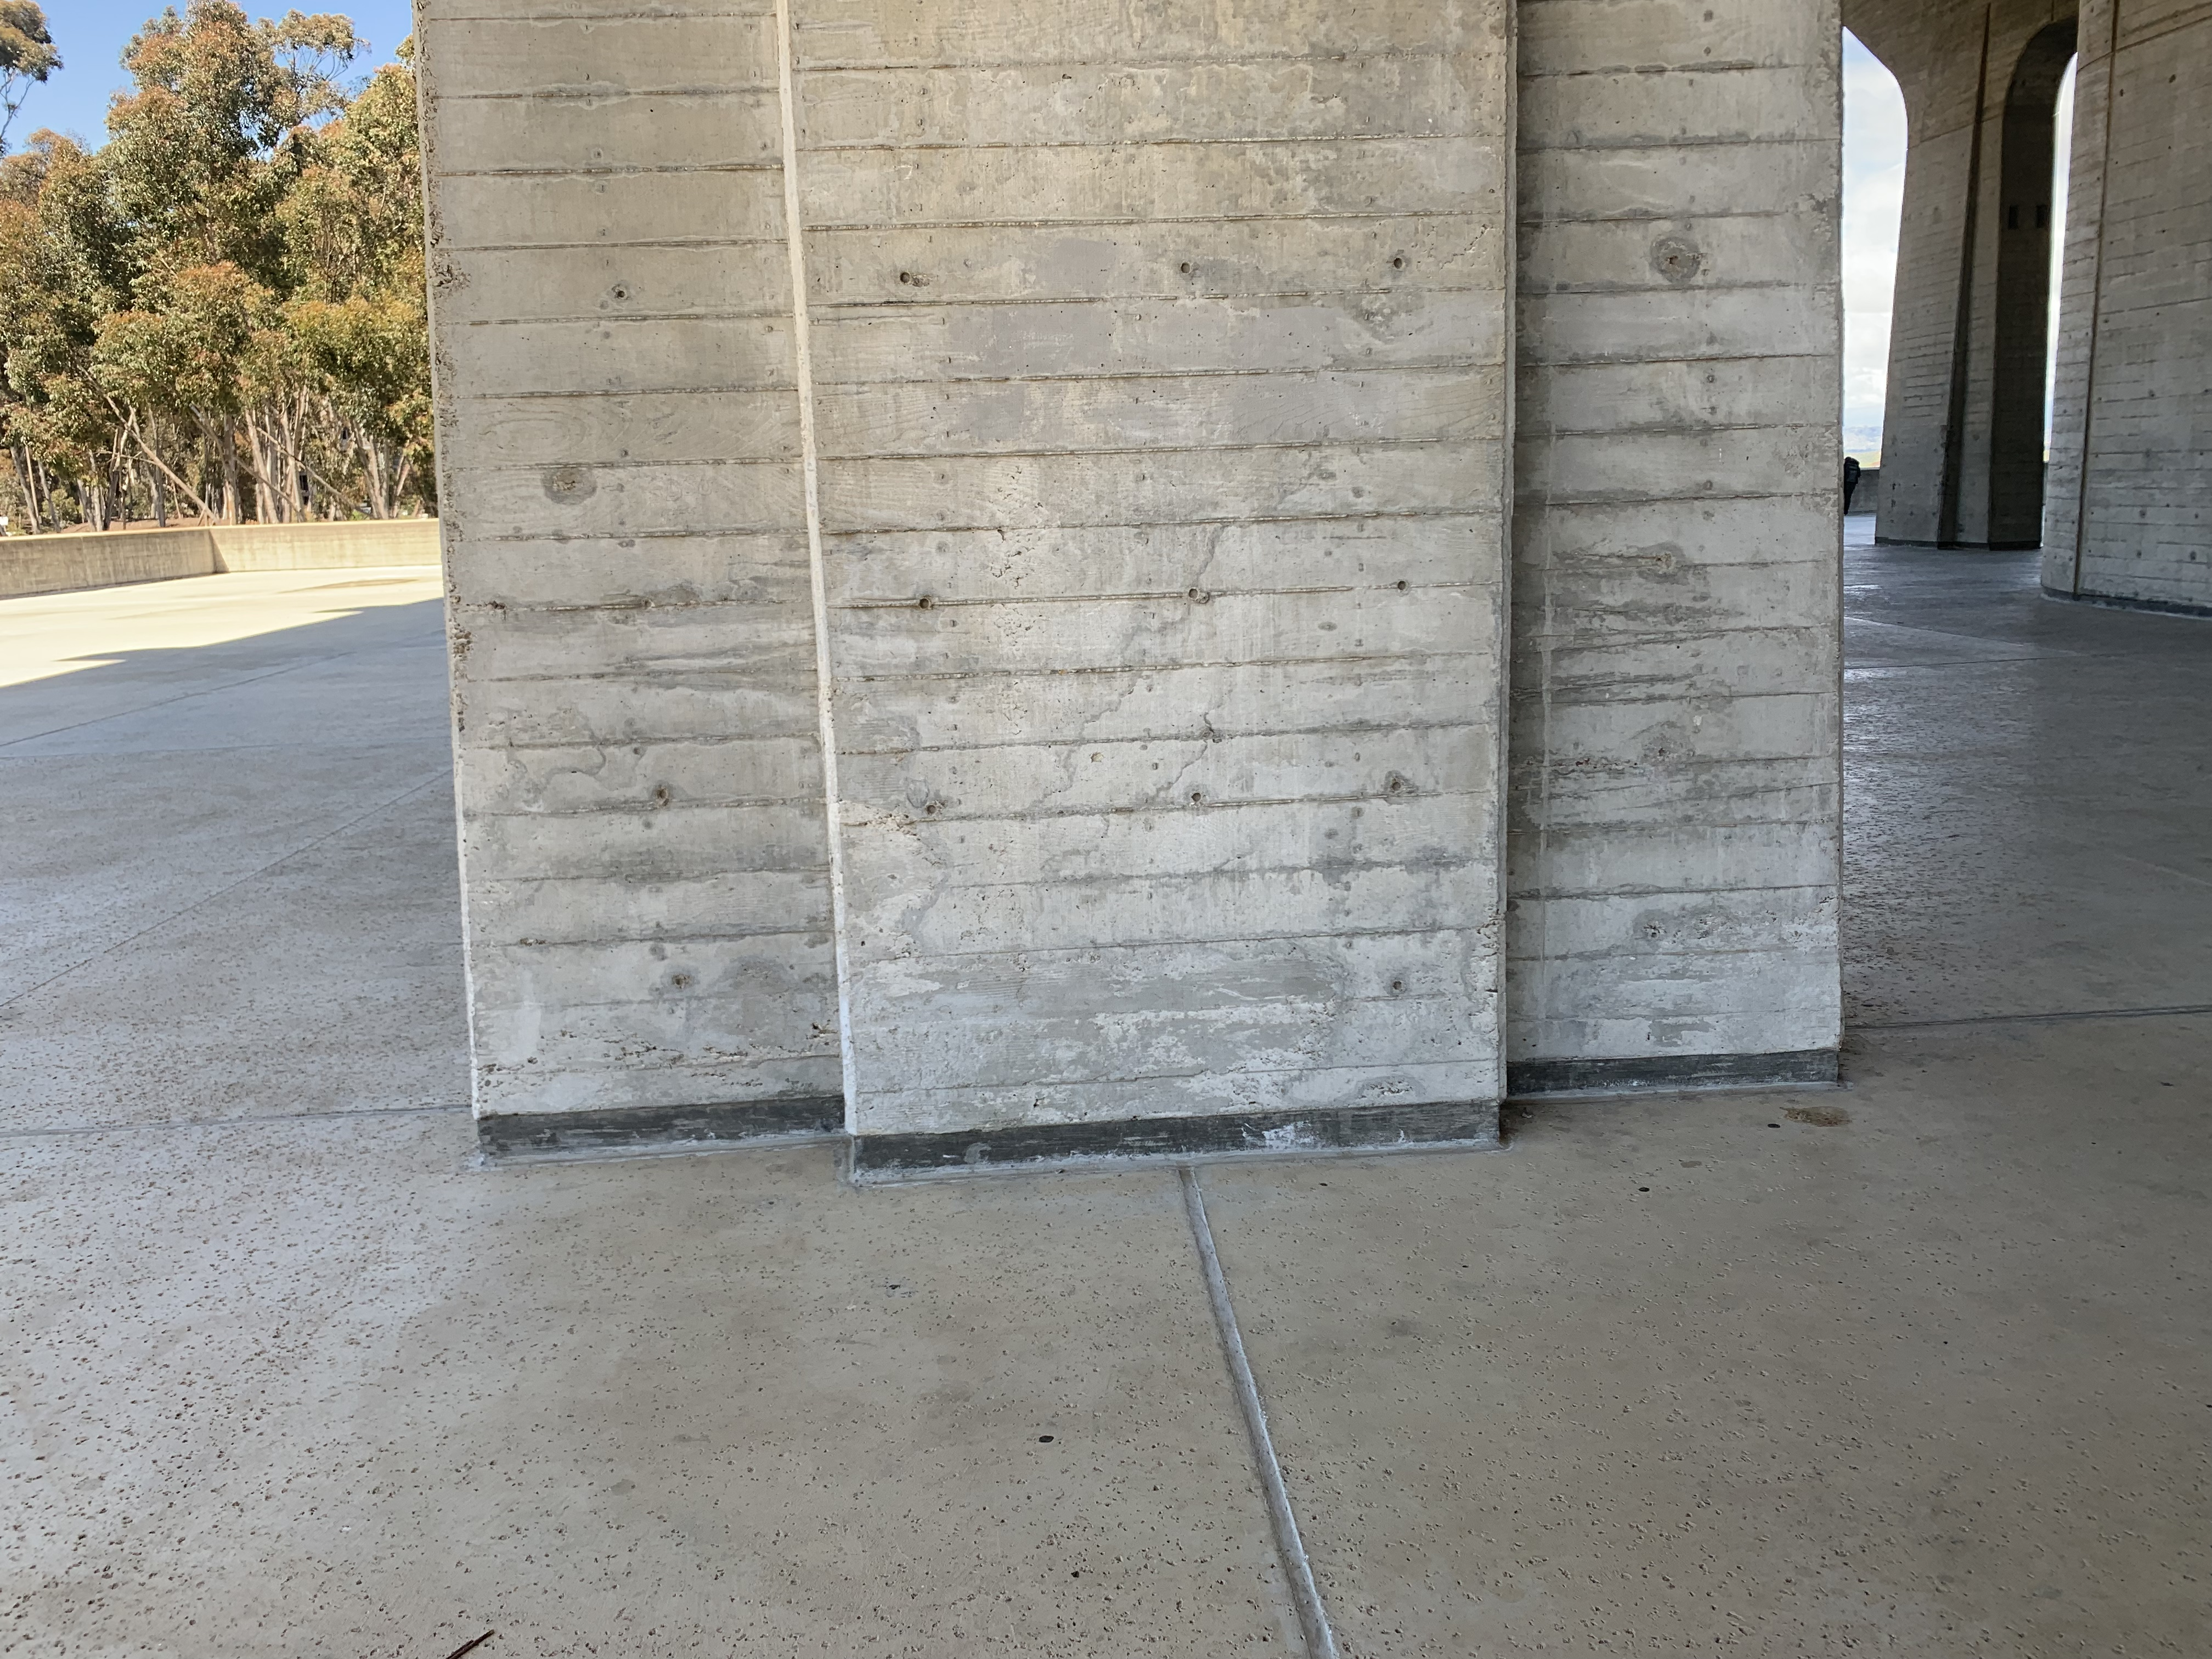Obstacle: (395, 5, 1888, 1176)
